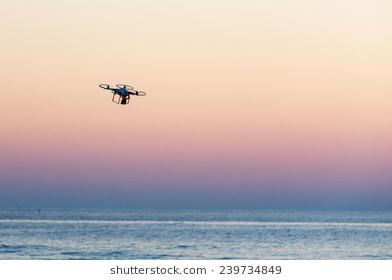drone: (99, 83, 148, 107)
